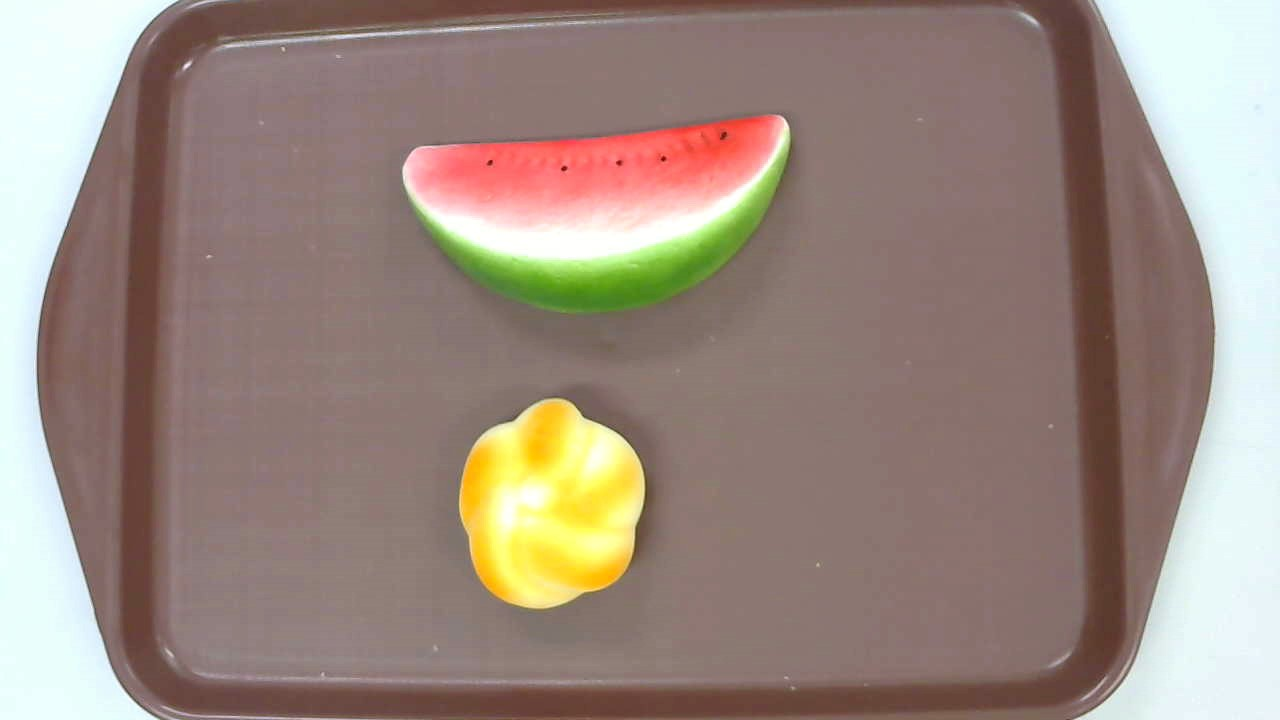twist bread: (459, 397, 646, 609)
water melon: (402, 113, 792, 315)
